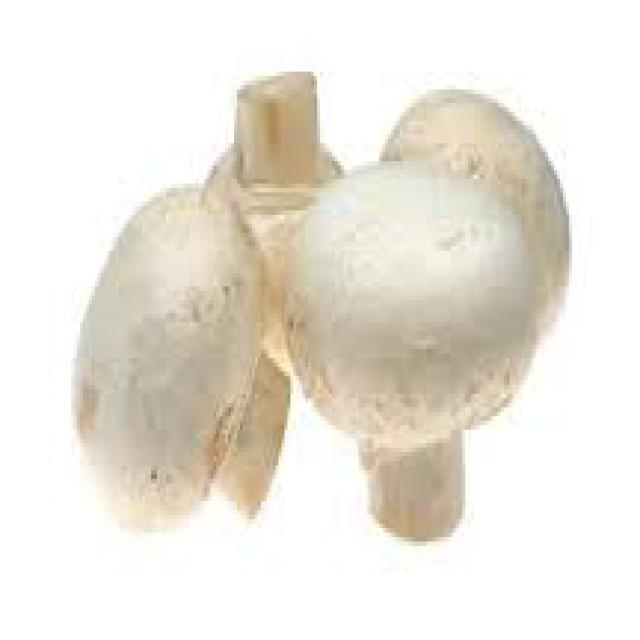Agaricus bisporus: (267, 179, 546, 539), (79, 179, 288, 527)
